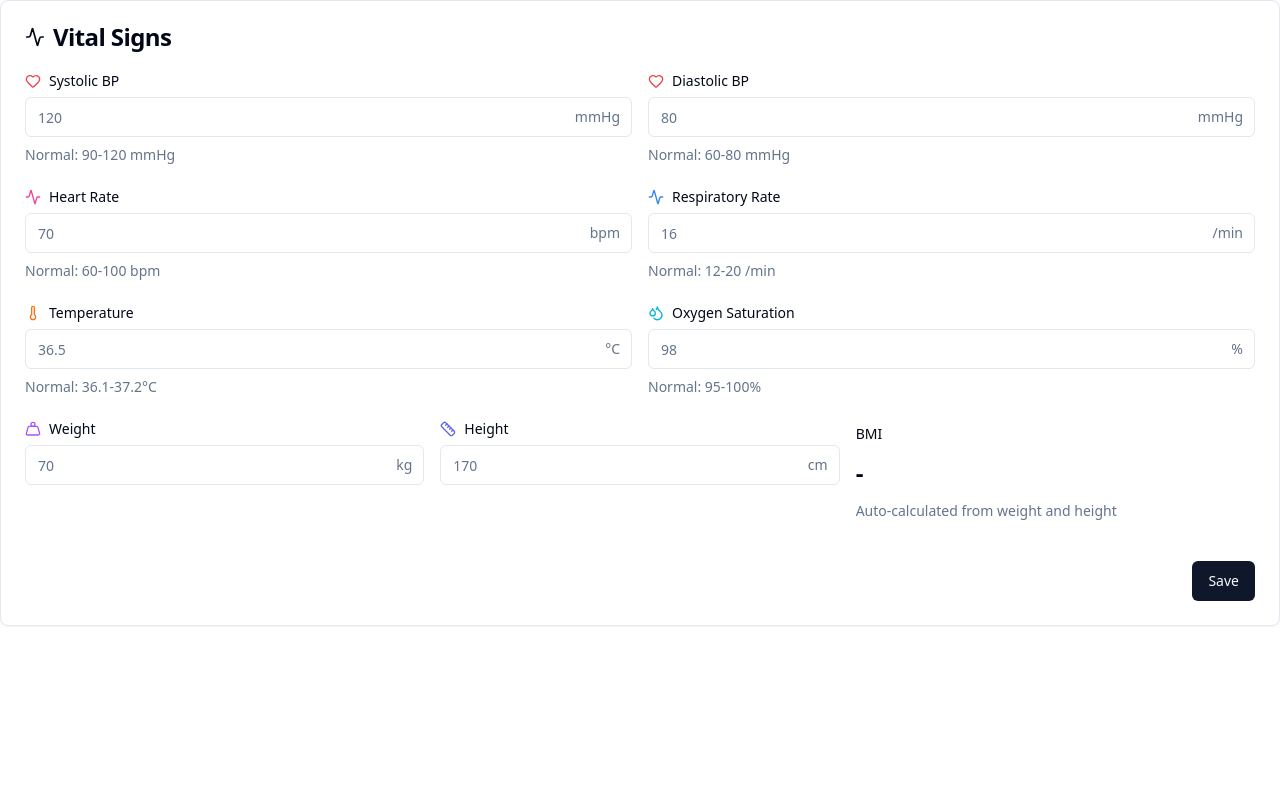
Test: VitalsInput › Validation › shows error for systolic BP below minimum
The image size is (1280, 800).
Type "50" into the number field with placeholder "120" at (328, 117), box [25,97,632,137]
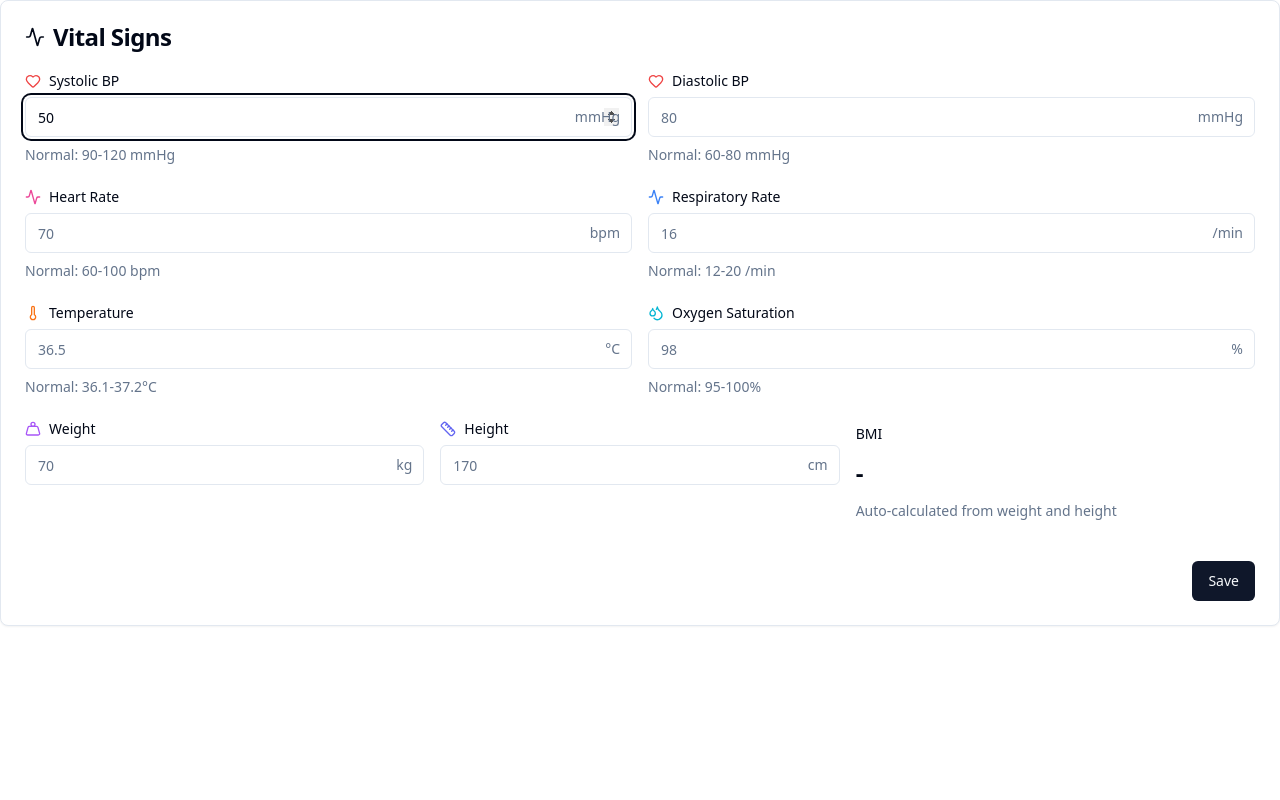
Click the button "Save" at (1224, 581), box [1192,561,1255,601]
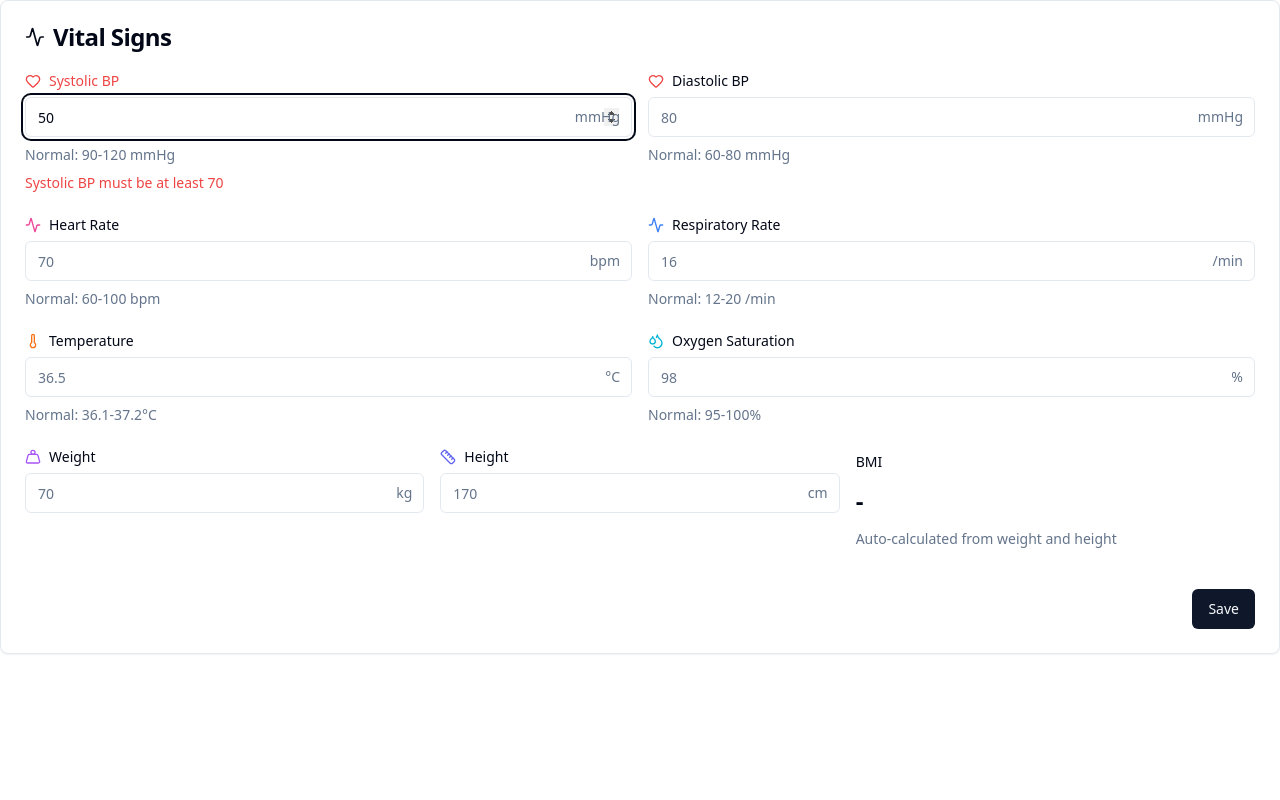
Expected: the text "Systolic BP must be at least 70" is shown, [25,173,224,192]
